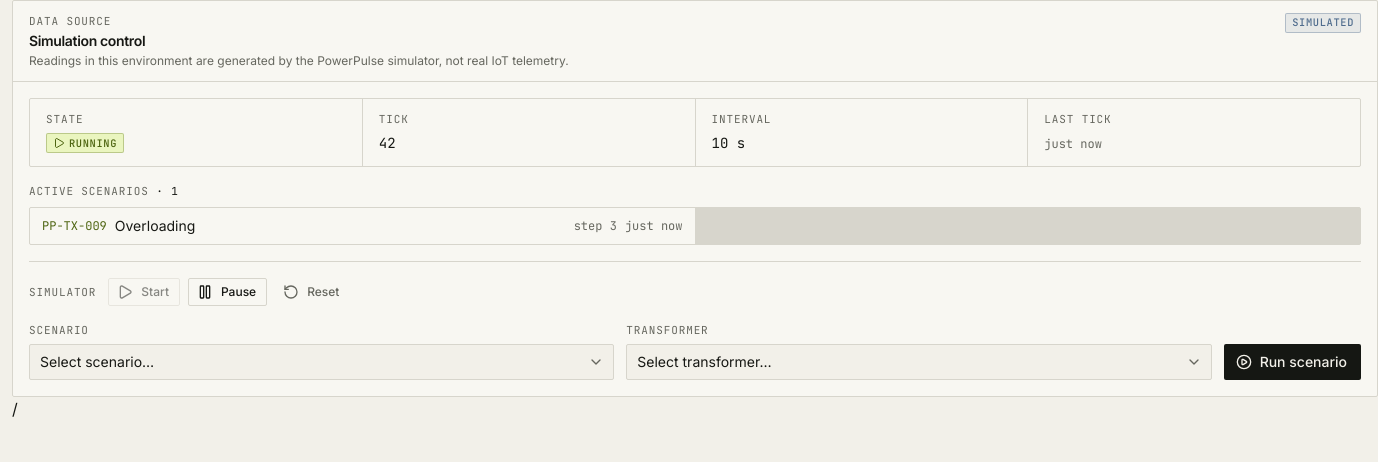
Test case: SimulationPanel › requires both selections before running
Click the button "Run scenario" at (1292, 362), box [1224, 344, 1361, 380]
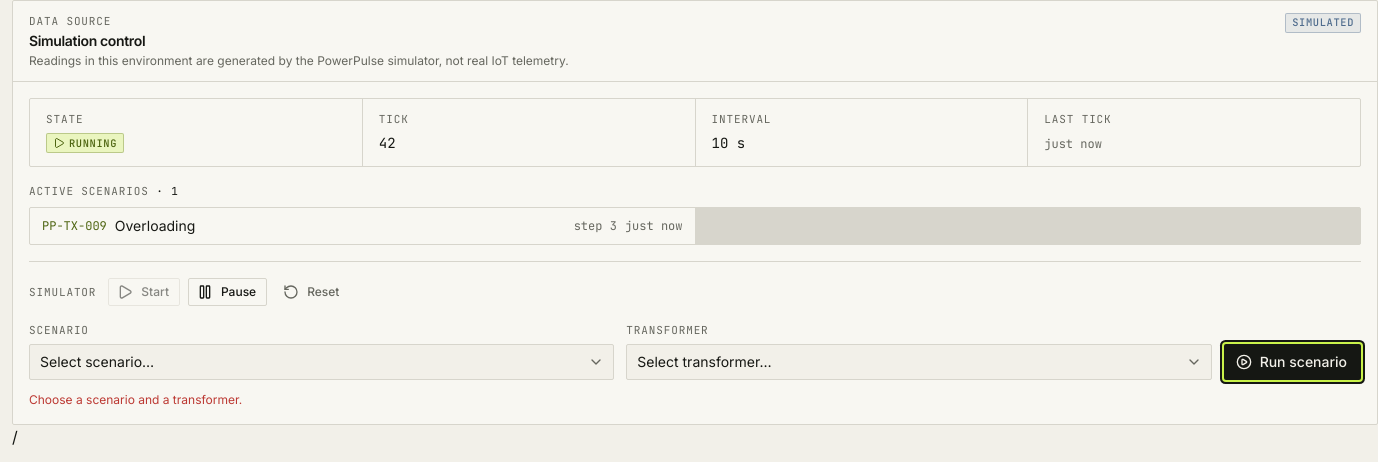
Result: the text "Choose a scenario and a transformer." is shown at [29, 392, 242, 407]
